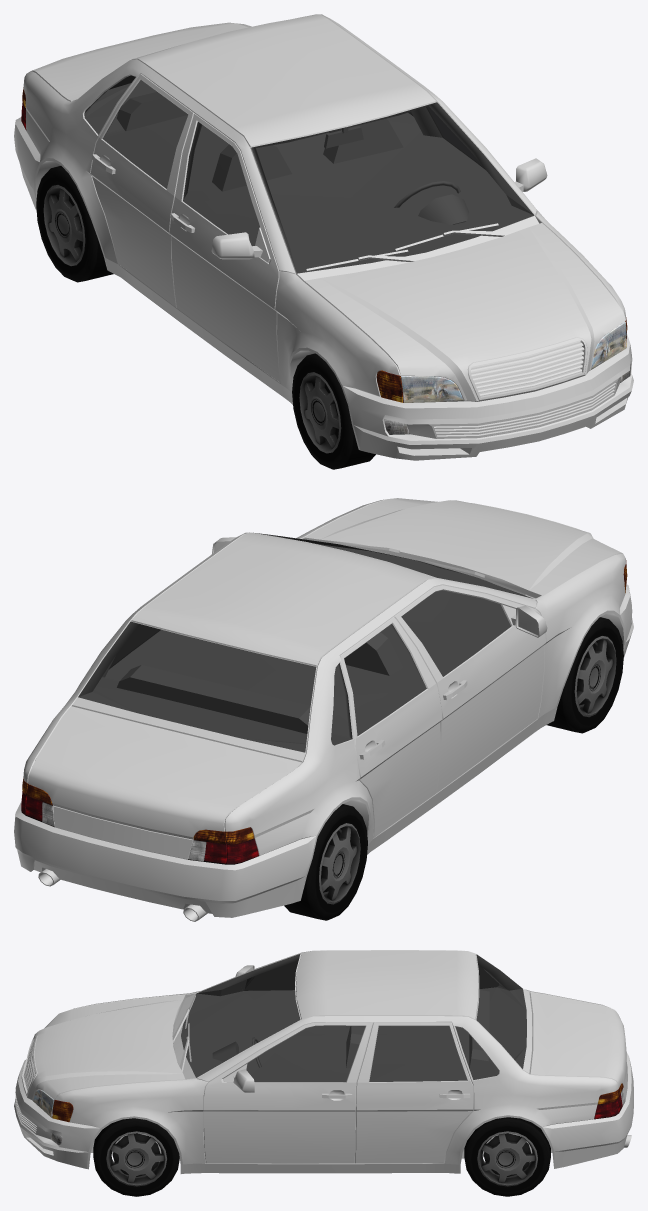
The model's file is sedan.glb.
The picture shows the model from 3 angles, top to bottom: view 1: azimuth 30°, elevation 25°; view 2: azimuth 150°, elevation 25°; view 3: azimuth 270°, elevation 25°; orthographic projection. The views are drawn at different scales.
Visible parts, largest first — view 1: body, wheel_FR, wheel_RR; view 2: body, wheel_RR, wheel_FR; view 3: body, wheel_RL, wheel_FL.
Boxes of the visible parts, x1=… form: body: x1=14, y1=14, x2=633, y2=460; wheel_FR: x1=292, y1=353, x2=375, y2=469; wheel_RR: x1=36, y1=166, x2=113, y2=282; body: x1=14, y1=498, x2=633, y2=921; wheel_RR: x1=284, y1=804, x2=367, y2=920; wheel_FR: x1=547, y1=617, x2=623, y2=733; body: x1=14, y1=950, x2=633, y2=1173; wheel_RL: x1=464, y1=1117, x2=550, y2=1196; wheel_FL: x1=93, y1=1118, x2=179, y2=1196.
Bounding box in the file's own units: 1.94 × 1.33 × 4.36.
Materials: 4 (2 with a texture image).
